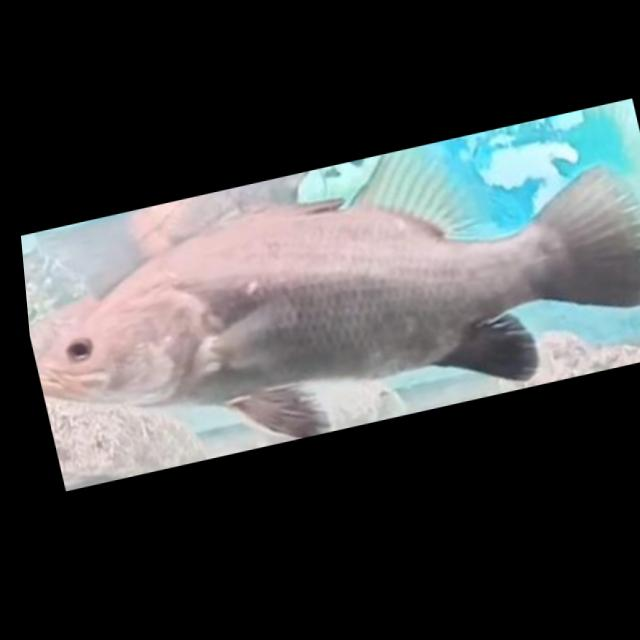Seabass: (13, 97, 640, 492)
